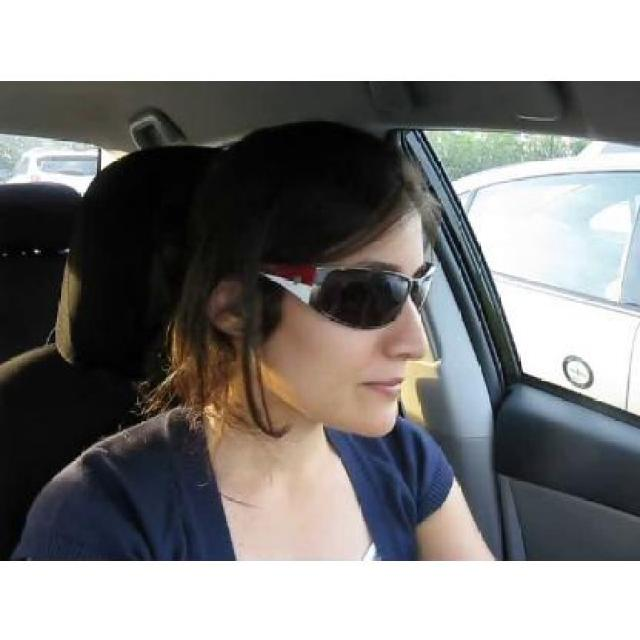attentif: (205, 121, 429, 436)
